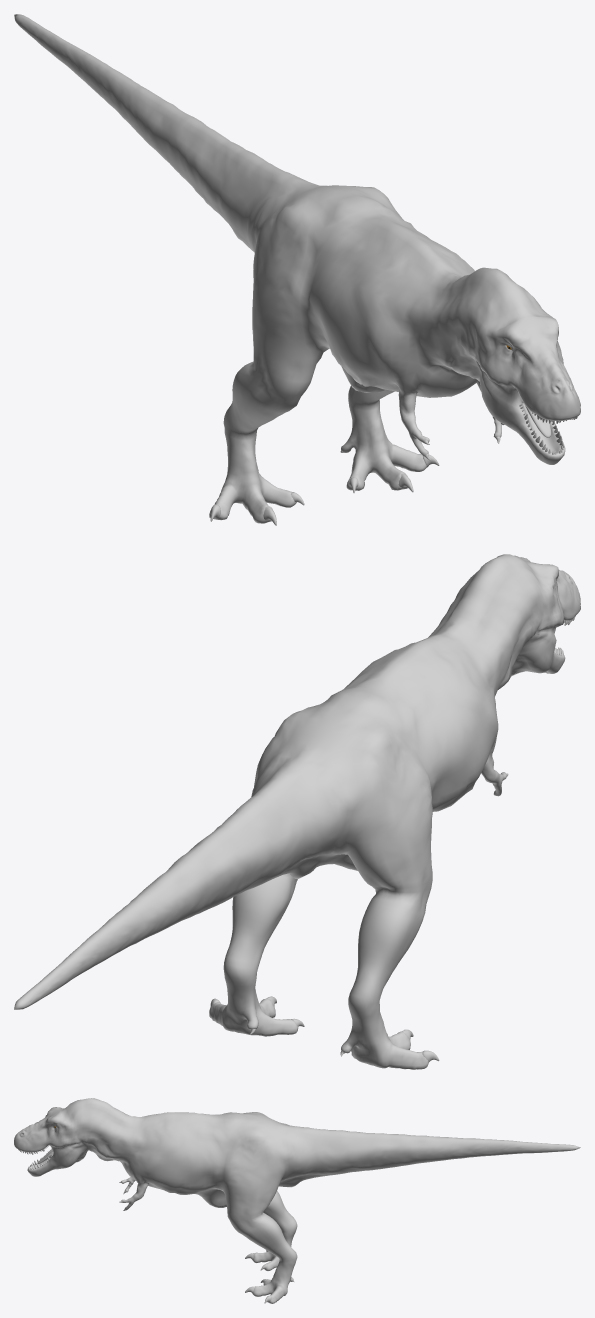
Rendered from trex.gltf.
3 renders of one model, top to bottom at view 1: azimuth 30°, elevation 25°; view 2: azimuth 150°, elevation 25°; view 3: azimuth 270°, elevation 25°, orthographic. The views are drawn at different scales.
Visible parts, largest first — view 1: Tyrant_King_2_Body_0; view 2: Tyrant_King_2_Body_0; view 3: Tyrant_King_2_Body_0.
Part boxes in pixels (box(x1,y1,x2,y2)): Tyrant_King_2_Body_0: box(14, 14, 580, 525); Tyrant_King_2_Body_0: box(14, 554, 580, 1069); Tyrant_King_2_Body_0: box(14, 1098, 580, 1303).
Size of the model in its own units: 0.783 by 1.16 by 3.31.
